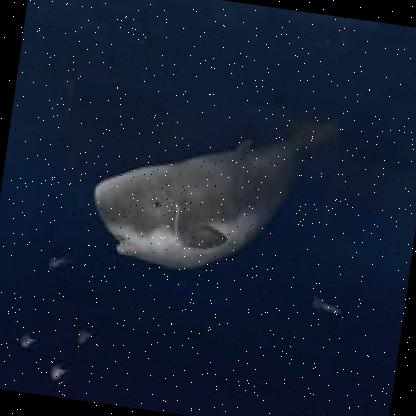sperm_whale: (44, 80, 340, 340)
